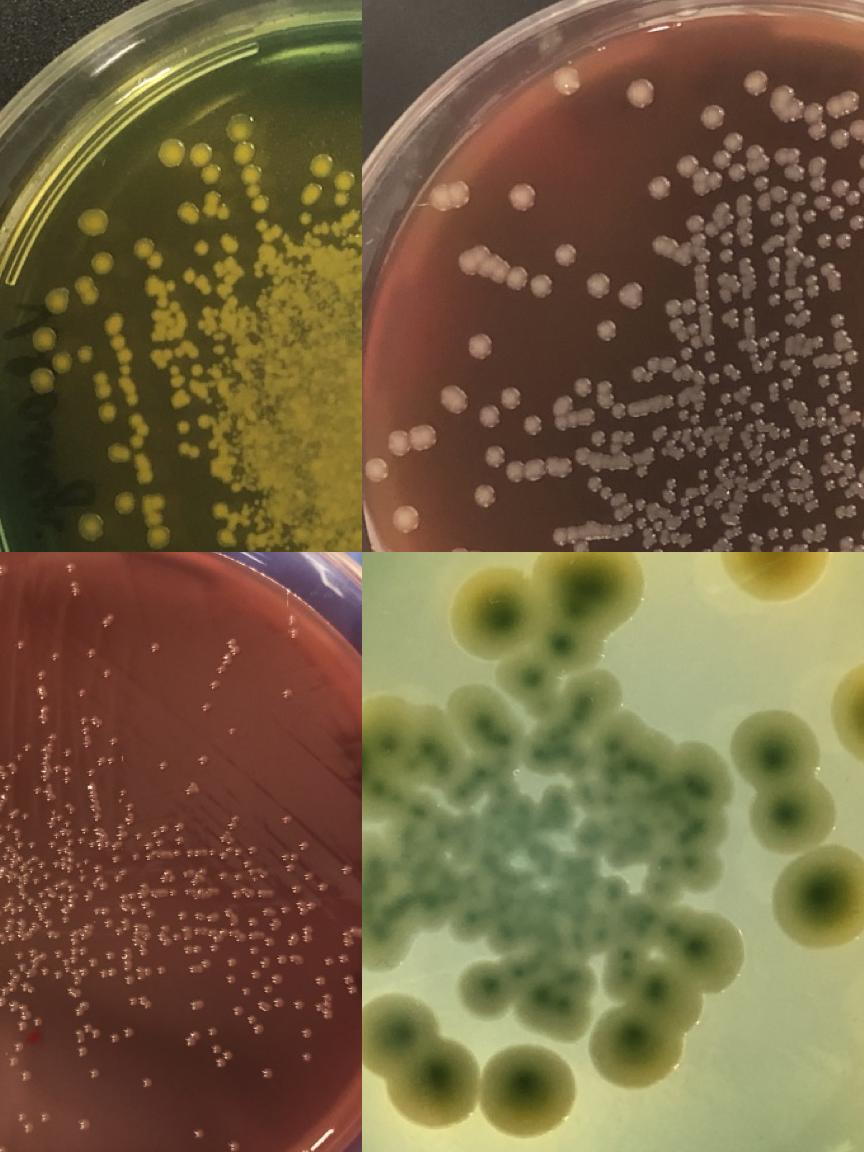assalmonicida: (0, 947, 49, 1031), (808, 156, 846, 220), (480, 386, 522, 427), (28, 888, 60, 940), (714, 132, 747, 182), (624, 75, 659, 108), (831, 172, 864, 206), (508, 180, 540, 212), (680, 322, 704, 360), (804, 102, 827, 140), (466, 331, 495, 361), (528, 270, 556, 301), (392, 504, 420, 534), (79, 714, 103, 749), (708, 362, 744, 384), (680, 501, 708, 528), (742, 69, 770, 95), (646, 174, 674, 200), (619, 282, 647, 308), (86, 780, 103, 822), (700, 104, 726, 130), (586, 272, 612, 298), (472, 482, 498, 508), (825, 392, 853, 416), (208, 843, 243, 861), (664, 298, 697, 317), (64, 824, 92, 846), (522, 456, 546, 481), (68, 934, 88, 964), (764, 524, 796, 542), (838, 430, 857, 460), (571, 374, 594, 398), (366, 456, 388, 481), (720, 228, 735, 264), (75, 1023, 102, 1043), (208, 926, 227, 954), (554, 244, 578, 266), (46, 829, 65, 856), (484, 445, 507, 467), (0, 840, 24, 861), (828, 128, 850, 150), (784, 161, 806, 183), (522, 414, 544, 436), (595, 320, 619, 340), (342, 923, 362, 947), (150, 822, 170, 846), (836, 369, 854, 394), (832, 502, 860, 518), (123, 800, 138, 828), (768, 184, 788, 204), (705, 170, 725, 190), (678, 408, 701, 424), (836, 230, 854, 250), (686, 213, 704, 233), (172, 924, 192, 942), (768, 379, 782, 403), (231, 884, 253, 899), (0, 821, 22, 836), (790, 189, 808, 207), (193, 910, 220, 922), (71, 966, 89, 984), (7, 806, 30, 820), (848, 210, 864, 230), (802, 207, 819, 225), (800, 252, 817, 270), (769, 209, 786, 227), (767, 254, 784, 272), (114, 915, 128, 936), (844, 350, 860, 368), (830, 310, 846, 328), (820, 260, 836, 278), (814, 372, 832, 388), (806, 281, 822, 299), (135, 965, 153, 981), (16, 742, 31, 761), (816, 231, 831, 249), (754, 174, 769, 192), (241, 858, 256, 876), (297, 902, 316, 916), (95, 754, 117, 766), (768, 290, 782, 308), (142, 900, 156, 918), (100, 612, 118, 626), (75, 1000, 89, 1018), (68, 578, 82, 596), (32, 870, 50, 884), (8, 902, 26, 916), (118, 892, 130, 912), (779, 425, 796, 439), (822, 478, 838, 492), (704, 348, 718, 364), (182, 944, 202, 955), (100, 966, 118, 978), (818, 432, 833, 446), (226, 638, 240, 653), (114, 867, 128, 882), (66, 882, 76, 903), (280, 850, 299, 861), (0, 932, 16, 945), (65, 854, 75, 874), (662, 490, 676, 504), (623, 430, 637, 444), (60, 905, 70, 924), (719, 392, 733, 404), (672, 369, 686, 381), (107, 735, 121, 747), (302, 926, 312, 942), (712, 498, 724, 510), (700, 482, 712, 494), (698, 468, 710, 480), (696, 445, 708, 457), (665, 476, 677, 488), (653, 519, 665, 531), (636, 498, 648, 510), (636, 517, 648, 529), (600, 486, 612, 498), (117, 785, 129, 797), (85, 765, 97, 777), (62, 745, 74, 757), (62, 816, 74, 828), (290, 953, 304, 963), (814, 545, 831, 552), (0, 563, 9, 576), (700, 546, 713, 552), (860, 151, 864, 170), (860, 461, 864, 475), (0, 833, 4, 845)
valgino: (728, 708, 864, 954), (362, 989, 577, 1139), (449, 552, 641, 664), (590, 1006, 678, 1086), (669, 912, 746, 994), (722, 552, 832, 600), (828, 659, 864, 768), (459, 960, 516, 1018), (362, 712, 389, 810)
vharveyi: (225, 115, 260, 194), (150, 338, 200, 370), (187, 142, 222, 184), (170, 364, 190, 406), (134, 236, 162, 266), (152, 308, 176, 342), (119, 362, 138, 404), (204, 190, 230, 218), (102, 314, 124, 347), (88, 251, 116, 274), (144, 276, 176, 296), (308, 154, 334, 178), (256, 218, 282, 242), (158, 140, 184, 164), (80, 209, 106, 233), (44, 288, 70, 312), (28, 368, 54, 392), (134, 454, 154, 484), (31, 326, 56, 350), (94, 371, 112, 399), (176, 202, 198, 224), (148, 527, 170, 549), (114, 492, 136, 514), (105, 440, 127, 462), (97, 401, 119, 423), (80, 516, 102, 538), (51, 352, 73, 374), (300, 183, 322, 203), (130, 412, 150, 434), (74, 344, 96, 364), (82, 286, 102, 306), (334, 170, 354, 189), (178, 441, 200, 456), (222, 232, 239, 251), (141, 496, 167, 508), (251, 196, 269, 212), (198, 386, 214, 404), (196, 276, 211, 294), (312, 220, 330, 234), (226, 510, 240, 528), (198, 412, 212, 427), (218, 530, 232, 544), (298, 211, 312, 223), (336, 192, 348, 204), (215, 505, 227, 517), (196, 241, 208, 253), (192, 364, 204, 376), (183, 270, 195, 282), (178, 420, 190, 432), (156, 295, 168, 307), (148, 512, 160, 524), (132, 435, 144, 447), (120, 349, 132, 361)
